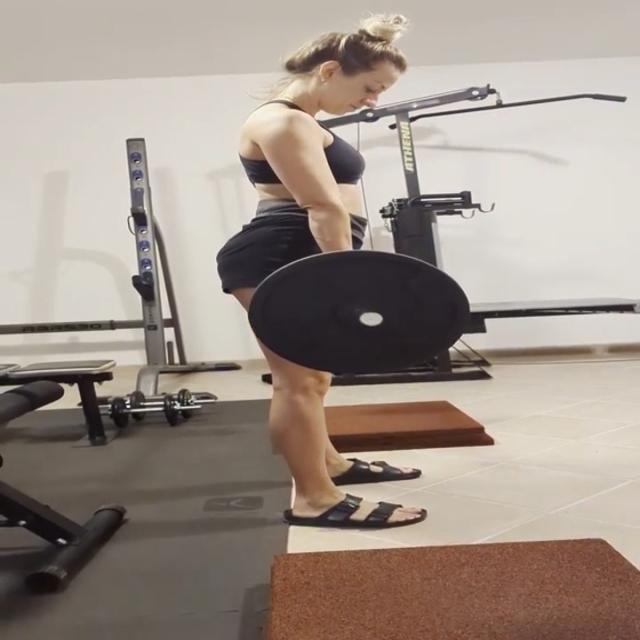barbell: (246, 248, 480, 381)
